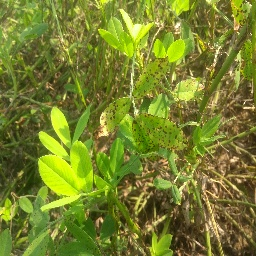GroundNut_Leaf: (134, 113, 187, 147), (36, 156, 81, 196), (59, 220, 95, 256), (101, 16, 132, 57), (135, 58, 162, 101), (104, 96, 133, 133), (52, 106, 73, 147), (232, 1, 256, 32), (96, 211, 121, 240), (175, 77, 201, 104), (18, 23, 50, 44), (241, 39, 256, 77), (166, 39, 185, 65), (112, 135, 124, 174), (18, 197, 34, 215)
